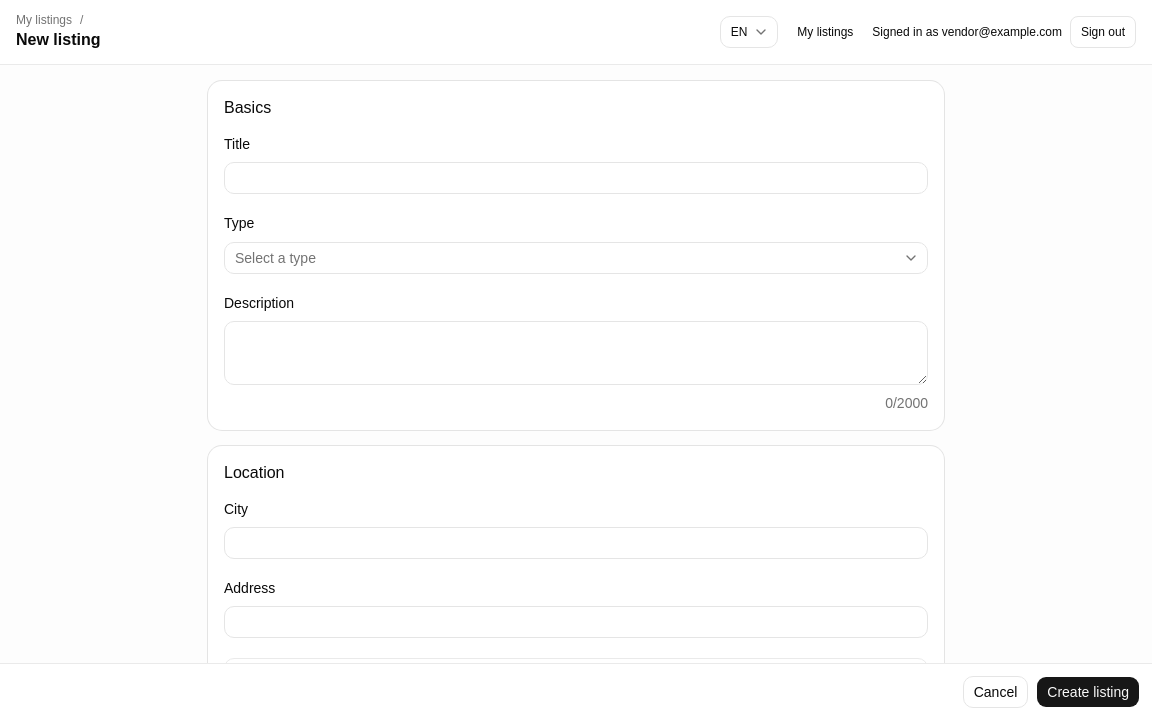
ListingEditorPage: LED fields › shows the LED inputs only while the type is LED screen
This screenshot has width=1152, height=720.
expect the field labelled "Title" is shown: met, box [224,162,928,194]
expect the field labelled "Ad length (seconds)" is not shown: met
Click the dropdown labelled "type" at (275, 258), box [224,242,928,274]
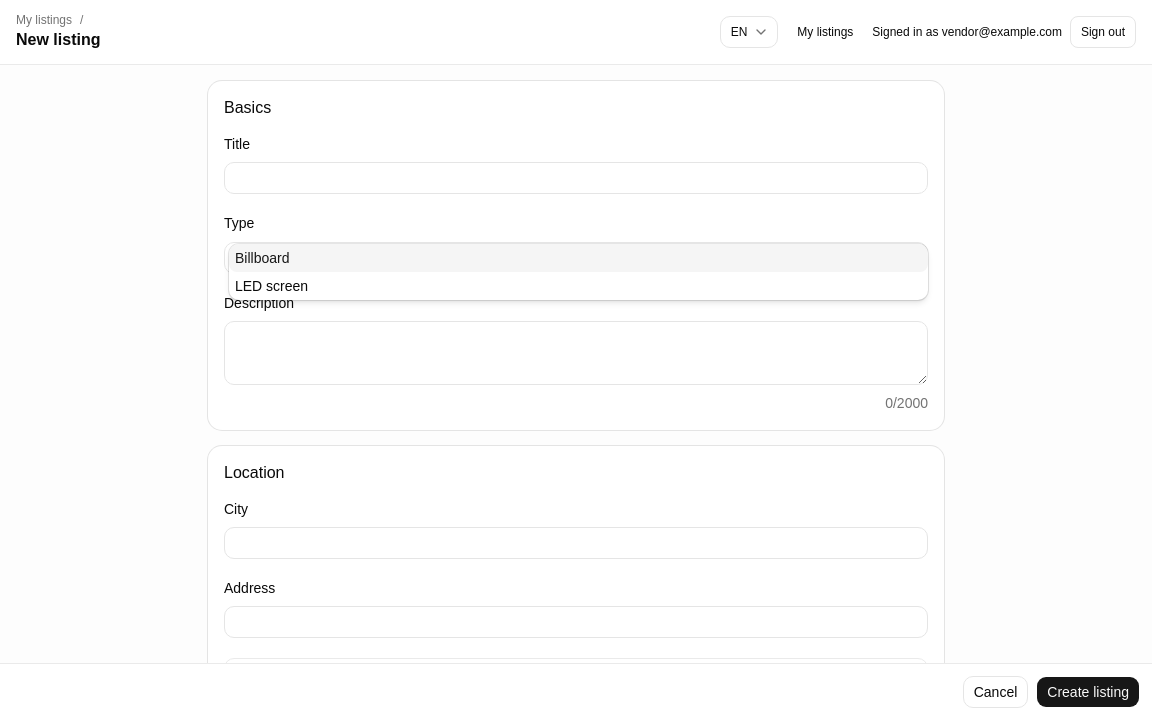
Click the option "Billboard" at (262, 258), box [229,244,928,272]
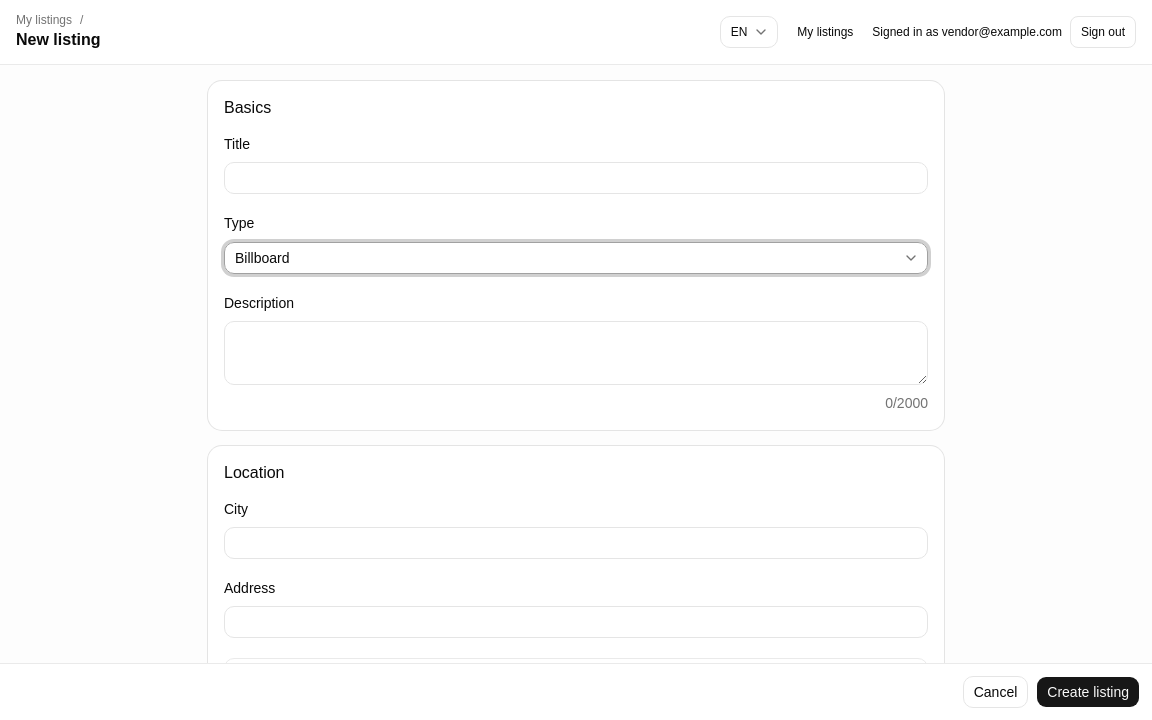
expect the field labelled "Plays per day" is not shown: met
Click the dropdown named "Type" at (262, 258), box [224,242,928,274]
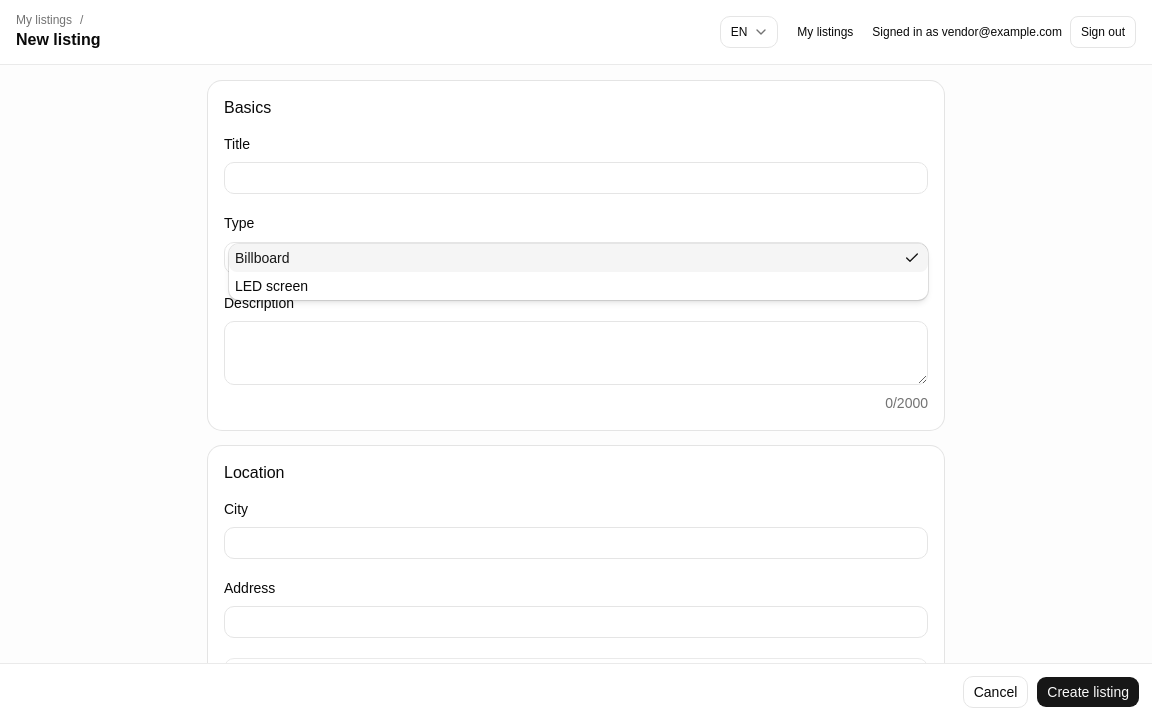
Click the option "LED screen" at (272, 286), box [235,278,308,294]
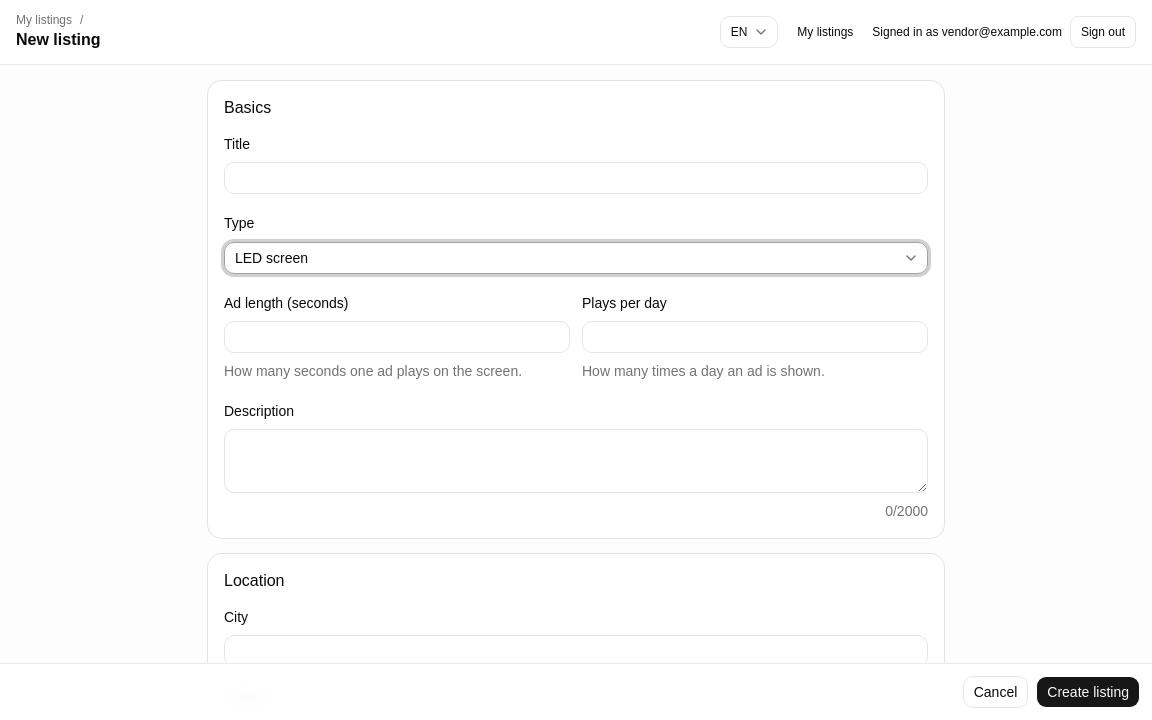
expect the field labelled "Ad length (seconds)" is shown: met, box [224,321,570,353]
expect the field labelled "Plays per day" is shown: met, box [582,321,928,353]
expect the text "How many seconds one ad plays on the screen." is shown: met, box [224,361,570,382]
